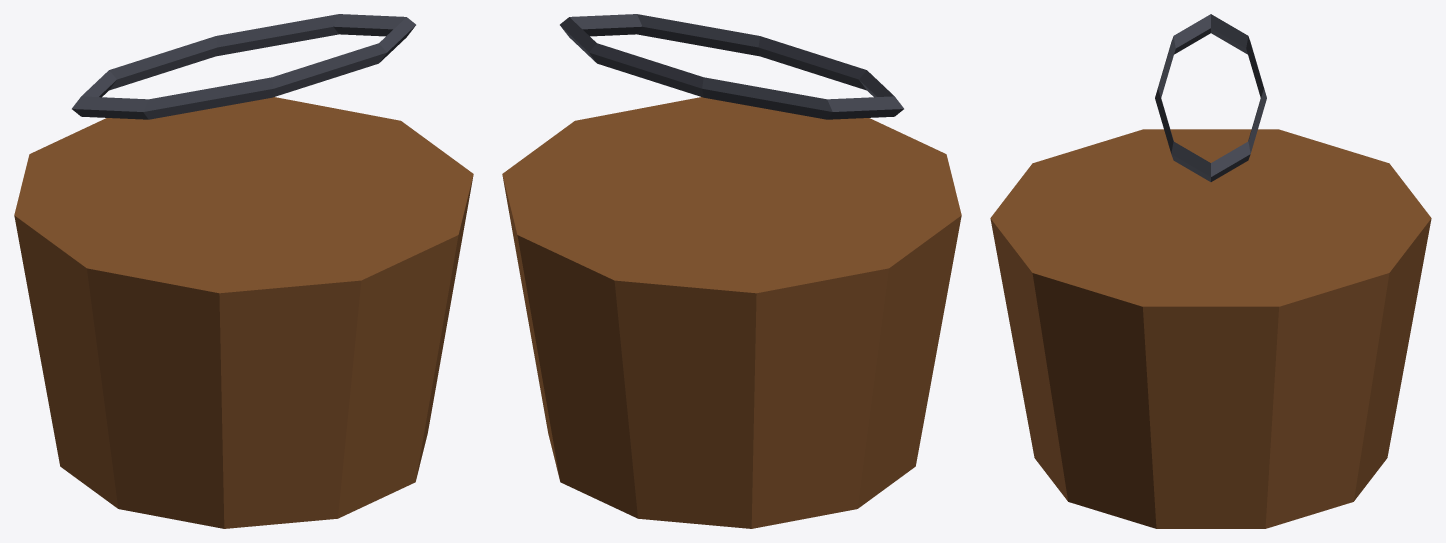
File: water_bucket.glb
3 renders of one model, left to right at view 1: azimuth 30°, elevation 25°; view 2: azimuth 150°, elevation 25°; view 3: azimuth 270°, elevation 25°, orthographic. The views are drawn at different scales.
Parts seen in each view (by area): view 1: water_bucket; view 2: water_bucket; view 3: water_bucket.
Boxes of the visible parts, x1=… form: water_bucket: x1=14, y1=14, x2=473, y2=528; water_bucket: x1=502, y1=14, x2=961, y2=528; water_bucket: x1=990, y1=14, x2=1431, y2=528.
Bounding box in the file's own units: 0.4755 × 0.462 × 0.5.
